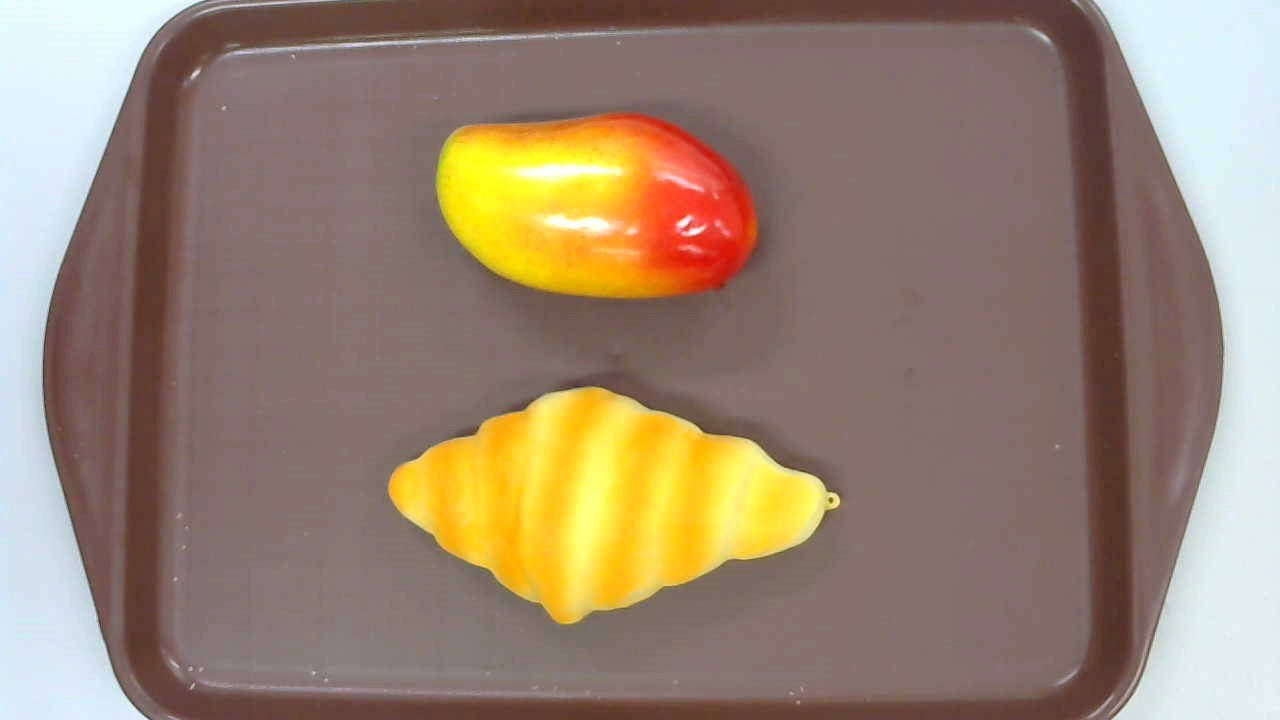croissant: (388, 387, 841, 626)
red mango: (435, 112, 760, 300)
